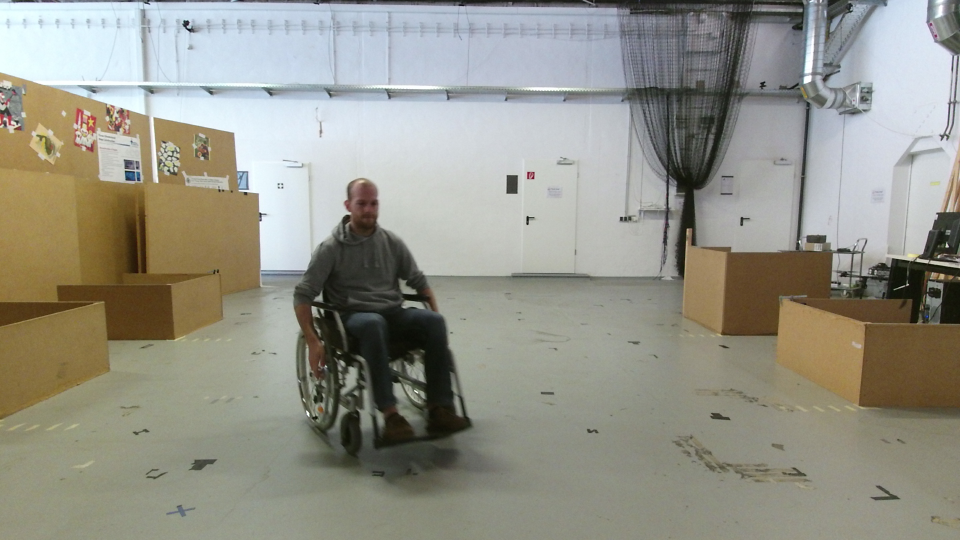wheelchair: (290, 174, 474, 456)
